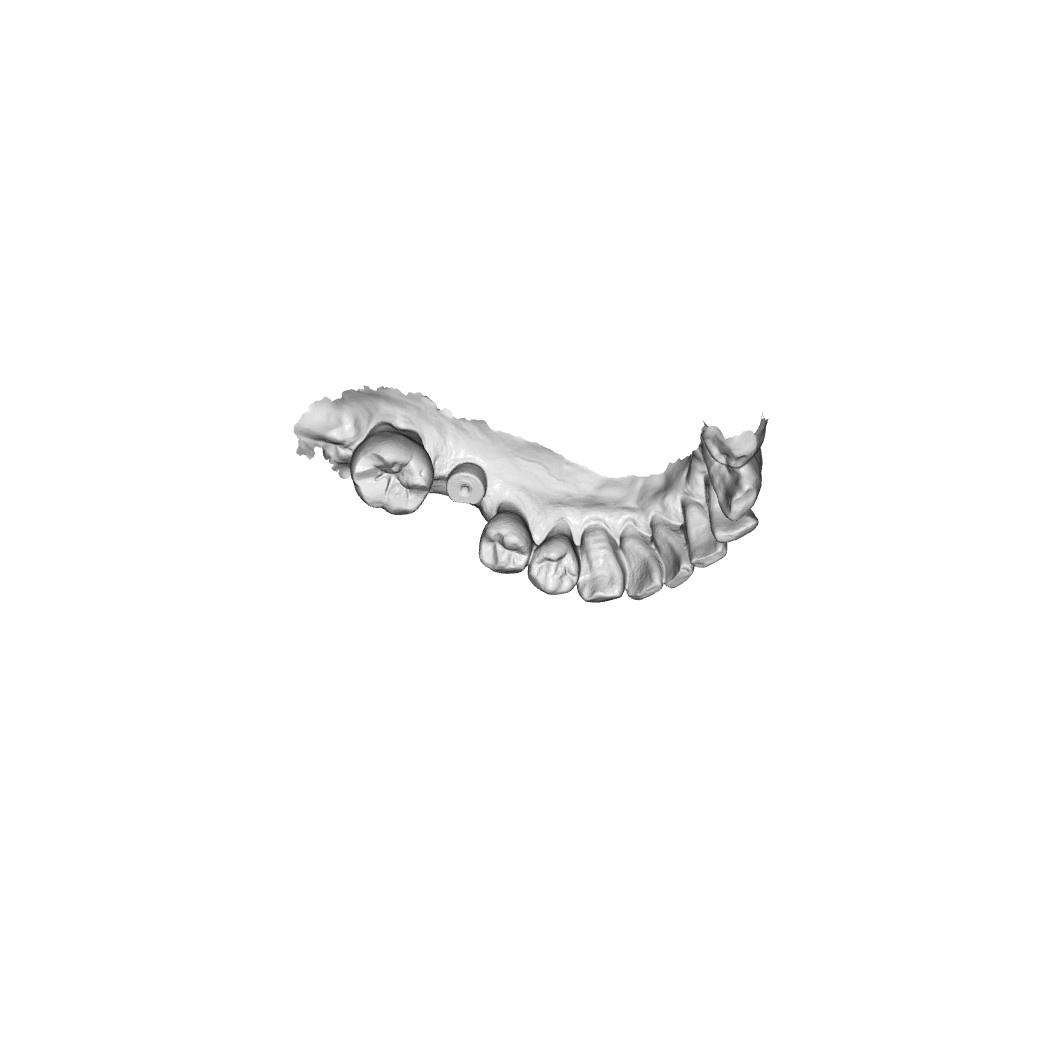canine: (574, 521, 627, 605), (712, 450, 763, 512)
implant: (443, 461, 489, 505)
incisor: (616, 523, 662, 604), (686, 496, 732, 570), (652, 519, 696, 591), (707, 482, 758, 540)
molar: (351, 427, 432, 519)
premolar: (479, 511, 531, 574), (527, 534, 577, 596)
